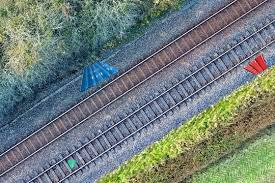Color_steel: (78, 61, 121, 90), (244, 52, 266, 77)
Dust_screen: (66, 158, 79, 170)
